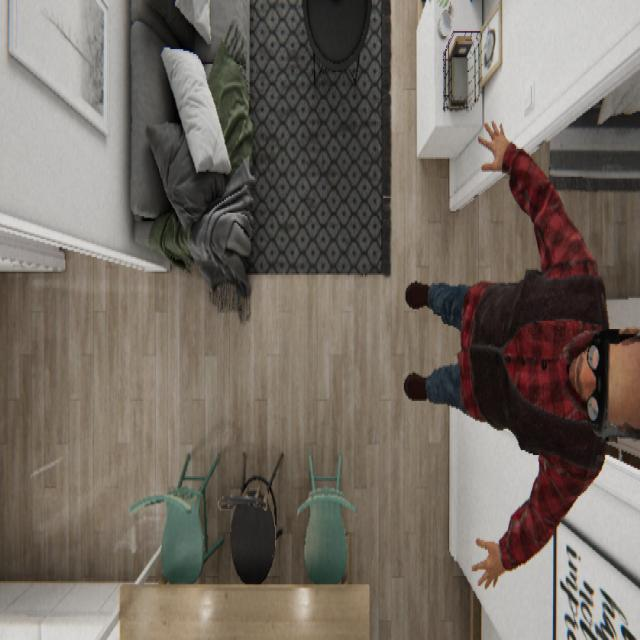Human: (402, 116, 638, 589)
